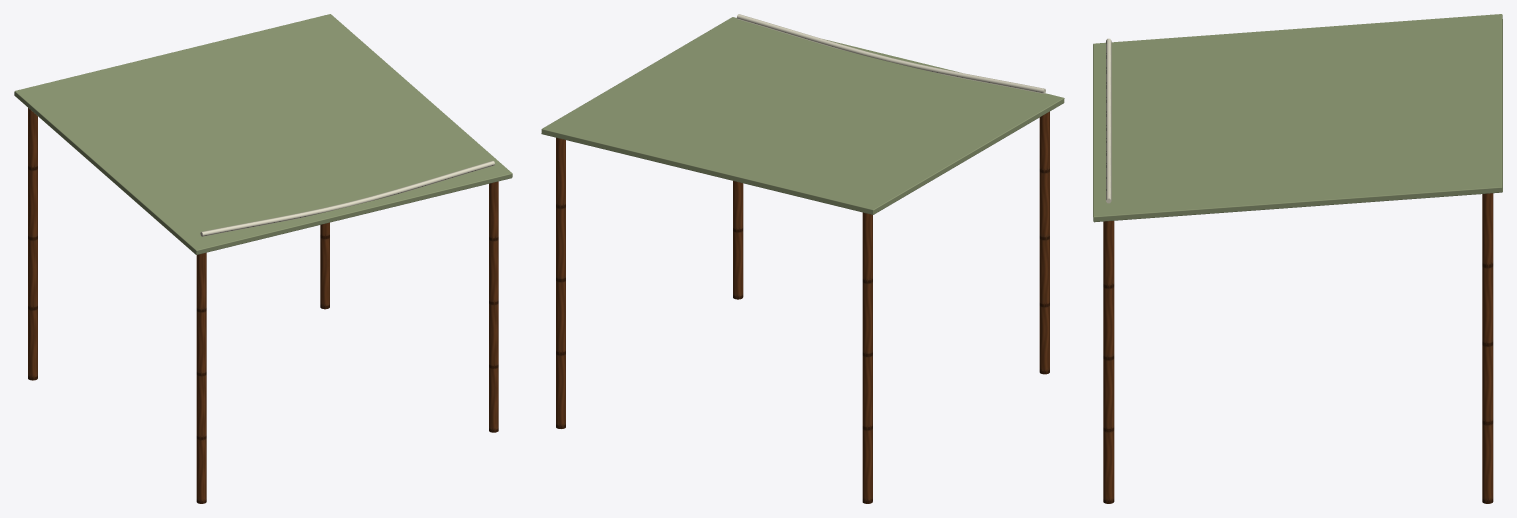
File: wilderness-survival-camp-rain-awning-4a30fdce__21939.glb
The picture shows the model from 3 angles, left to right: view 1: azimuth 30°, elevation 25°; view 2: azimuth 150°, elevation 25°; view 3: azimuth 270°, elevation 25°; orthographic projection. The views are drawn at different scales.
Parts seen in each view (by area): view 1: rain-awning; view 2: rain-awning; view 3: rain-awning.
Part boxes in pixels (box(x1,y1,x2,y2)): rain-awning: box(14, 14, 512, 503); rain-awning: box(541, 14, 1064, 503); rain-awning: box(1093, 14, 1502, 503).
Size of the model in its own units: 2.6 by 2.24 by 2.59.
3 materials, 1 textured.
